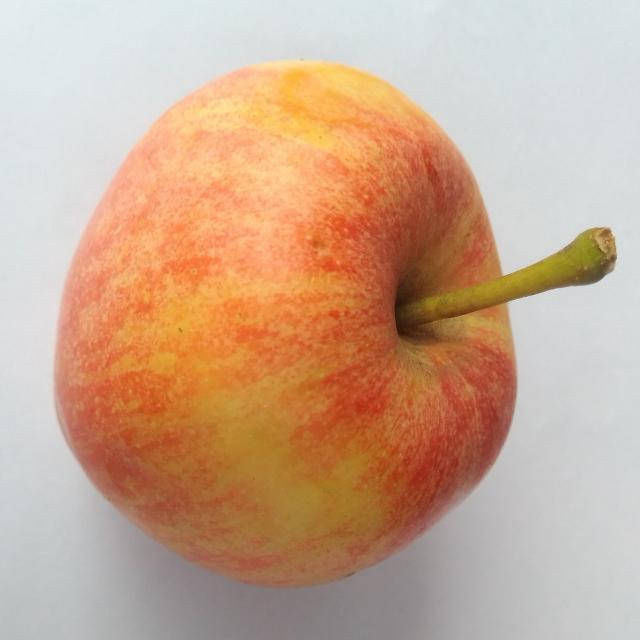Fresh Apple: (52, 65, 523, 640)
